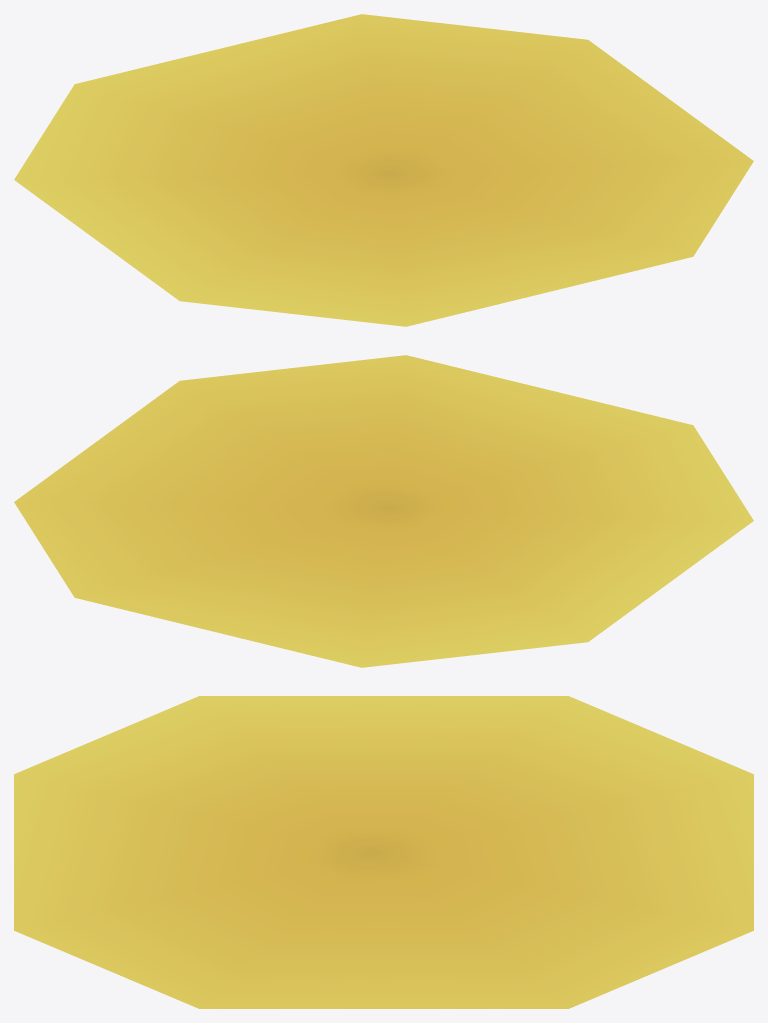
Rendered from soup_bowl_full_yellow.fbx.
The picture shows the model from 3 angles, top to bottom: view 1: azimuth 30°, elevation 25°; view 2: azimuth 150°, elevation 25°; view 3: azimuth 270°, elevation 25°; orthographic projection. The views are drawn at different scales.
Visible parts, largest first — view 1: soup_bowl_full_yellow; view 2: soup_bowl_full_yellow; view 3: soup_bowl_full_yellow.
Part boxes in pixels (<box>): soup_bowl_full_yellow: <box>14,14,753,326</box>; soup_bowl_full_yellow: <box>14,355,753,667</box>; soup_bowl_full_yellow: <box>14,696,753,1008</box>.
Bounding box in the file's own units: 24.53 × 2e-05 × 24.53.
